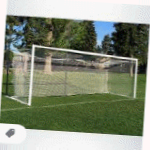goals: (6, 44, 140, 108)
